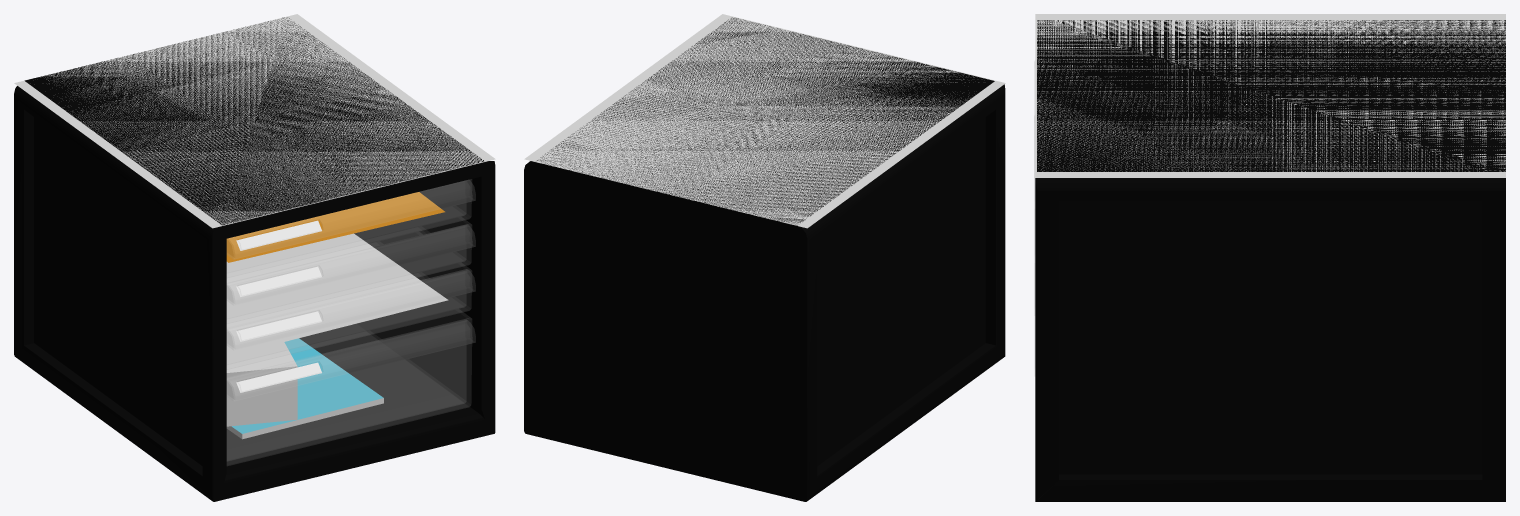
The model's file is letter-case.glb.
The picture shows the model from 3 angles, left to right: view 1: azimuth 30°, elevation 25°; view 2: azimuth 150°, elevation 25°; view 3: azimuth 270°, elevation 25°; orthographic projection. The views are drawn at different scales.
Parts seen in each view (by area): view 1: Body, __TOP__, Cube.001, Cube.002, Cube.003 (×4), Plane, Cube.007, Cube.006, Plane.001, Cube.005 (×4); view 2: Body, __TOP__; view 3: Body, __TOP__.
Part boxes in pixels (<box>): Body: <box>14,17,495,501</box>; __TOP__: <box>14,14,495,228</box>; Cube.001: <box>227,179,471,369</box>; Cube.002: <box>227,309,471,465</box>; Cube.003 (×4): <box>227,180,475,400</box>; Plane: <box>226,233,448,353</box>; Cube.007: <box>226,338,383,439</box>; Cube.006: <box>226,342,297,426</box>; Plane.001: <box>226,192,444,262</box>; Cube.005 (×4): <box>236,220,321,392</box>; Body: <box>524,17,1005,501</box>; __TOP__: <box>524,14,1005,228</box>; Body: <box>1035,20,1505,501</box>; __TOP__: <box>1035,14,1505,177</box>.
Bounding box in the file's own units: 0.277 × 0.256 × 0.337.
